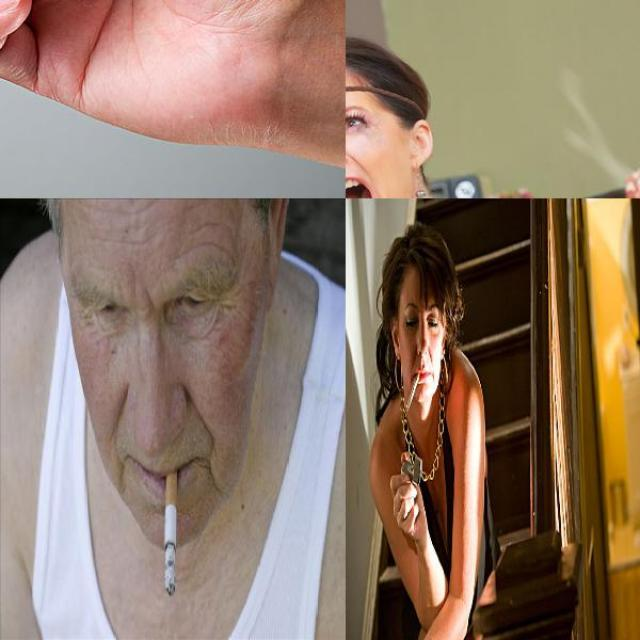smoke: (163, 461, 179, 597), (406, 371, 421, 412)
